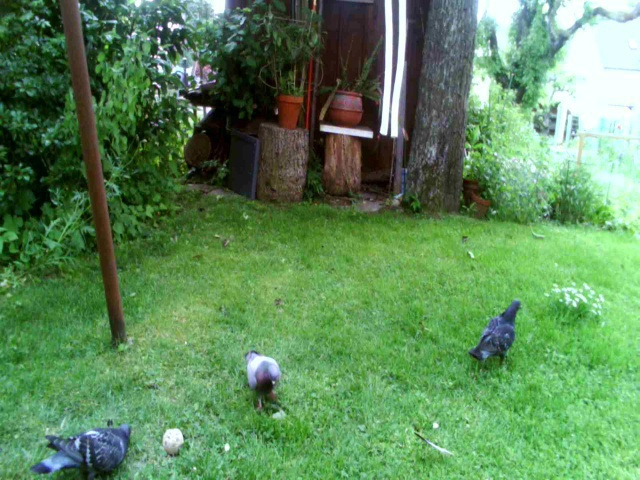Pigeon: (28, 417, 137, 479), (468, 295, 528, 383), (235, 343, 284, 422)
